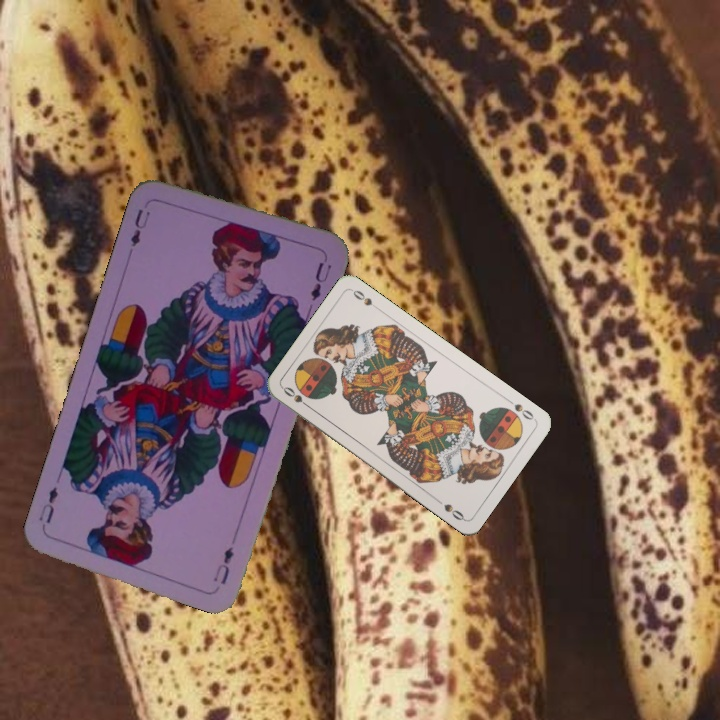EU: (126, 204, 153, 250), (209, 542, 236, 588)
SO: (279, 382, 315, 412), (503, 395, 538, 423)
